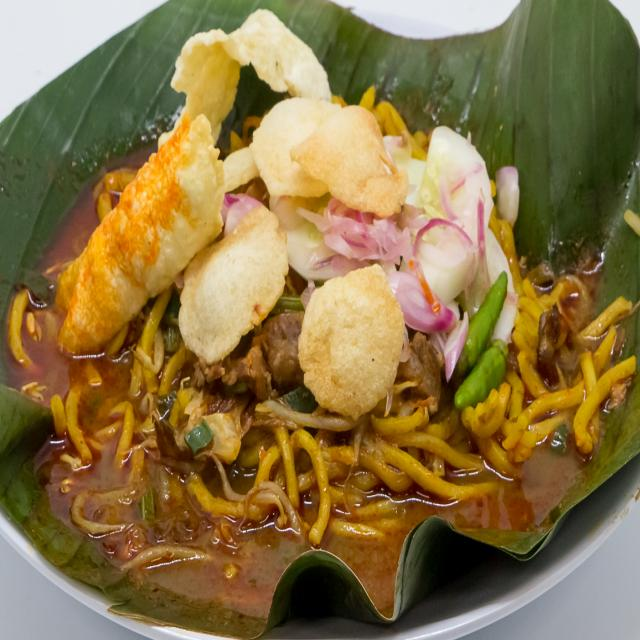Mie-Aceh: (20, 1, 630, 566)
